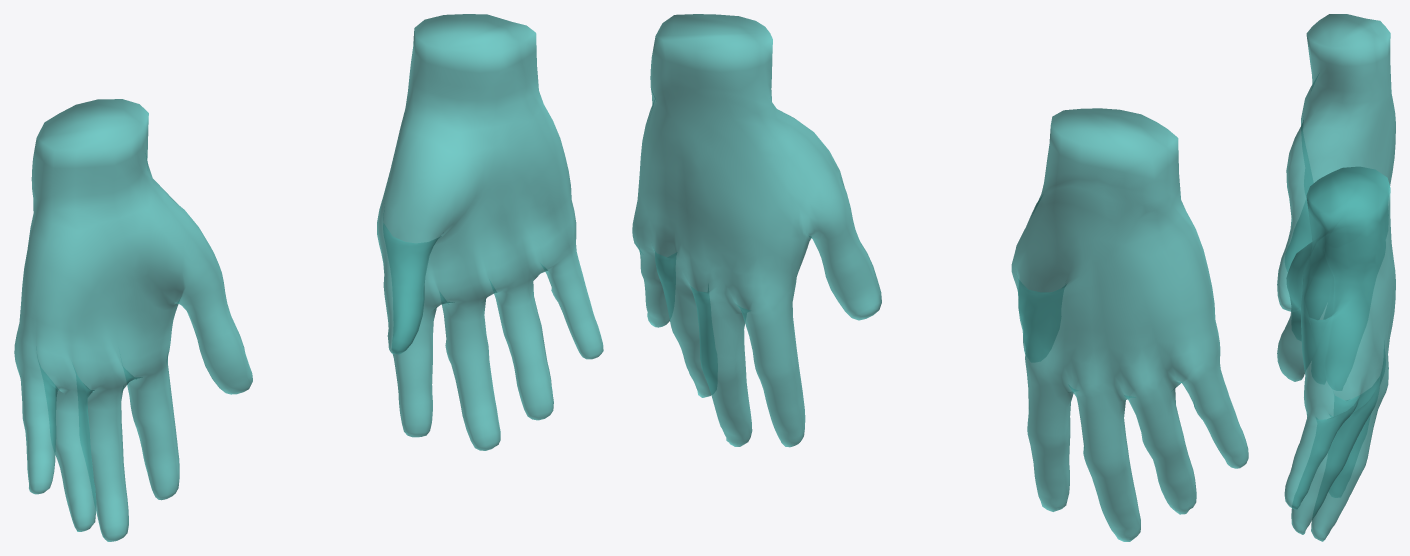
The model's file is handsModelV2.fbx.
3 renders of one model, left to right at view 1: azimuth 30°, elevation 25°; view 2: azimuth 150°, elevation 25°; view 3: azimuth 270°, elevation 25°, orthographic. The views are drawn at different scales.
Parts seen in each view (by area): view 1: Skin_low, Skin_low.001; view 2: Skin_low.001, Skin_low; view 3: Skin_low, Skin_low.001.
Boxes of the visible parts, x1,y1,x2,y2 form: Skin_low: [377, 14, 603, 450]; Skin_low.001: [14, 99, 252, 541]; Skin_low.001: [1011, 108, 1248, 541]; Skin_low: [632, 14, 881, 447]; Skin_low: [1277, 166, 1395, 541]; Skin_low.001: [1277, 14, 1395, 311].
Bounding box in the file's own units: 35.54 × 24.34 × 7.4.
